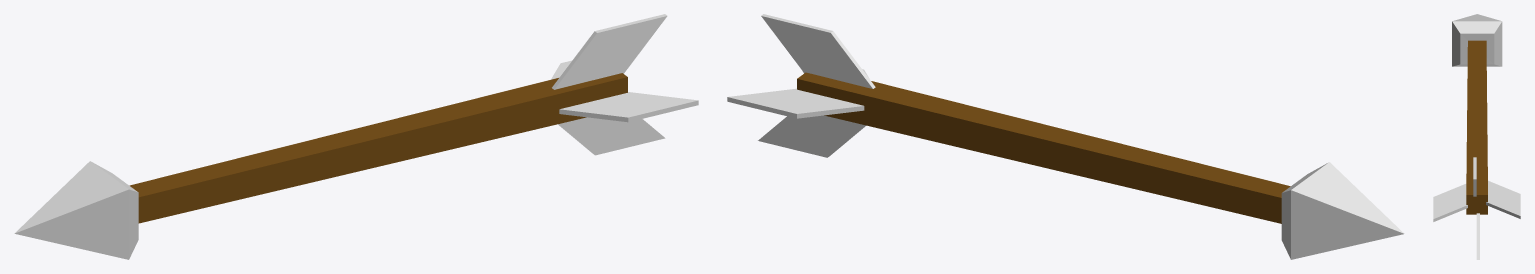
The model's file is arrow.fbx.
3 renders of one model, left to right at view 1: azimuth 30°, elevation 25°; view 2: azimuth 150°, elevation 25°; view 3: azimuth 270°, elevation 25°, orthographic. The views are drawn at different scales.
Visible parts, largest first — view 1: STRELA; view 2: STRELA; view 3: STRELA.
Part boxes in pixels (left/top/right/bottom): STRELA: left=14, top=14, right=698, bottom=259; STRELA: left=727, top=14, right=1404, bottom=259; STRELA: left=1433, top=14, right=1520, bottom=259.
Size of the model in its own units: 158 by 28.89 by 28.5.
